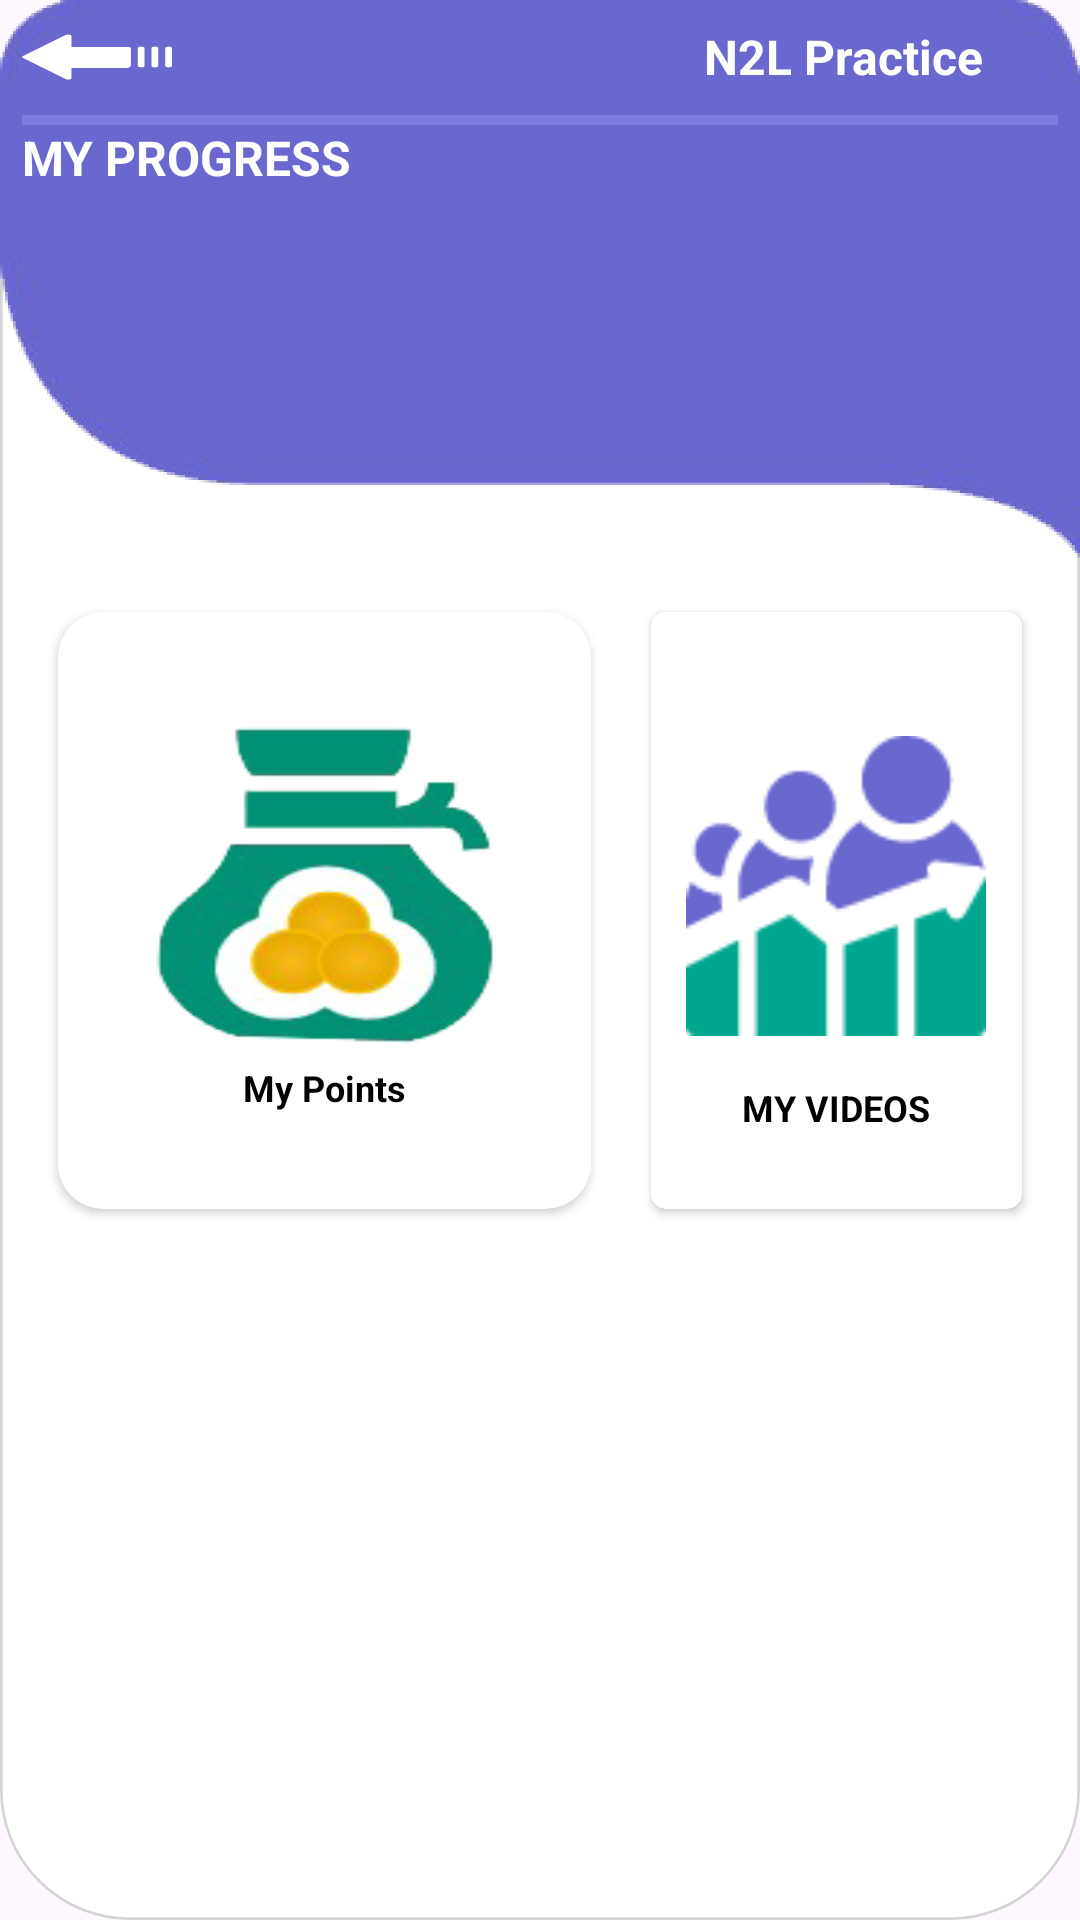

Icons on this 1080px x 1920px Android screen, each with the point to tap as point (x, y):
back: point (97, 57)
myprogress: point (836, 886)
